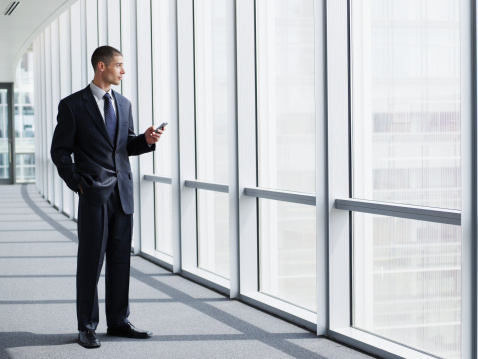em pe: (47, 35, 175, 349)
